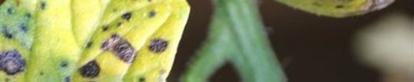Tomato Septoria leaf spot: (0, 0, 212, 82)
